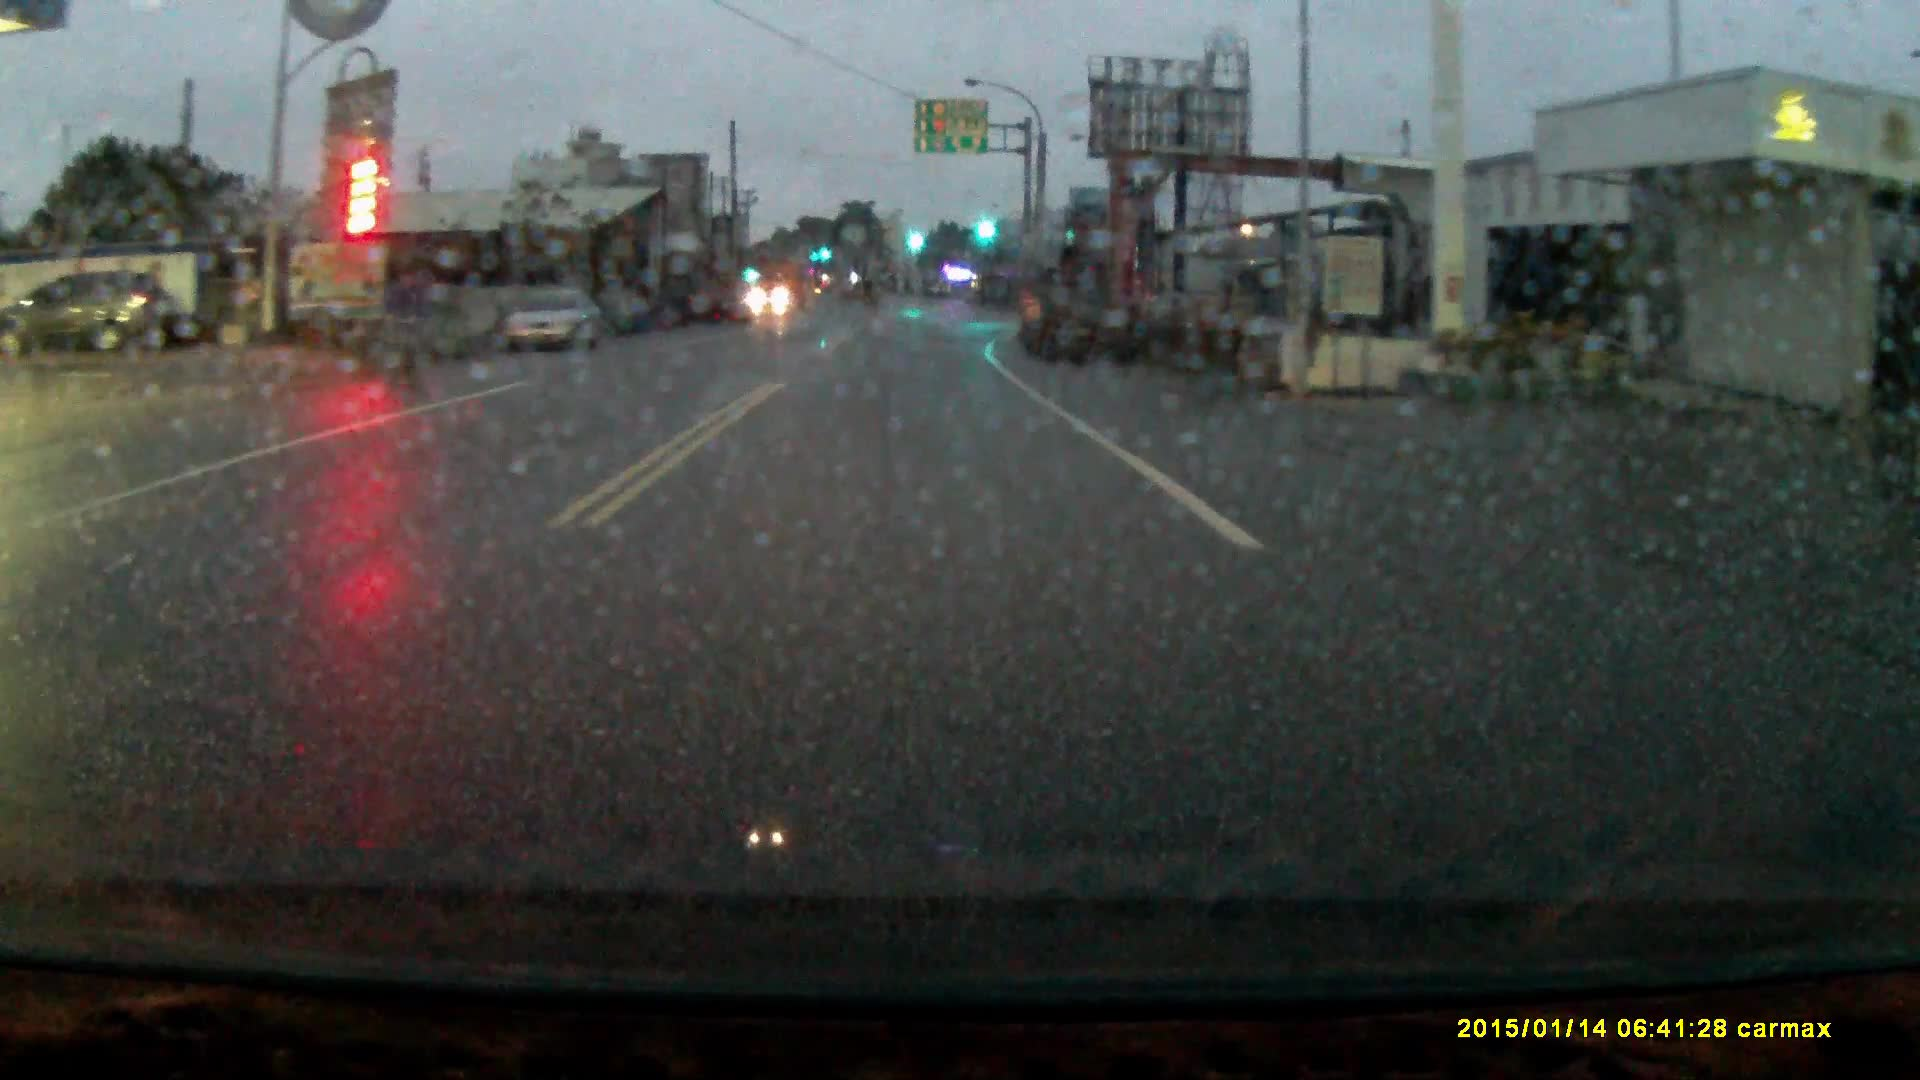rider: (341, 249, 447, 411)
vehicle: (1, 268, 195, 357), (1018, 266, 1108, 373), (501, 294, 617, 359)
